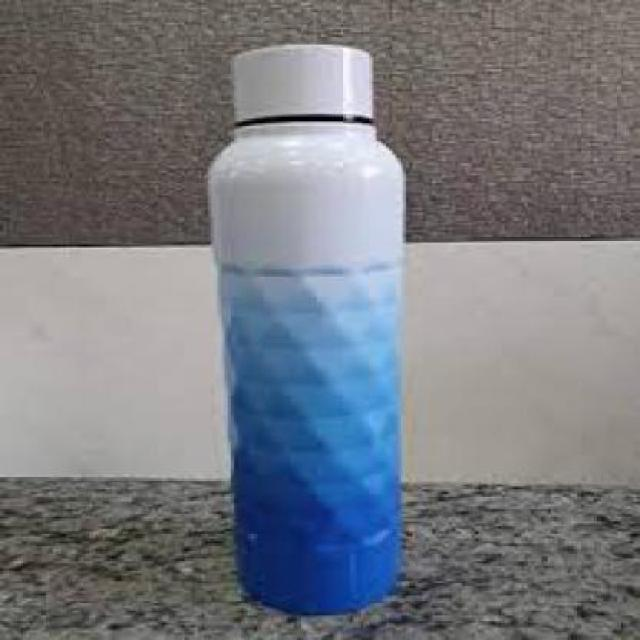Drinking: (182, 29, 416, 623)
